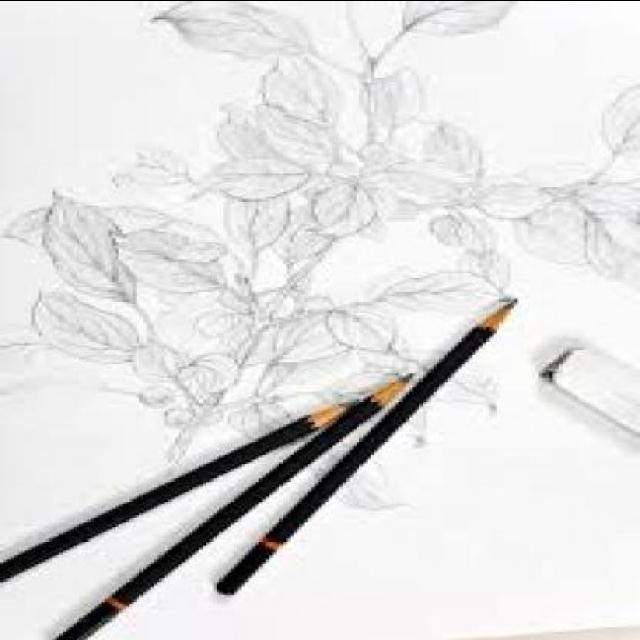pencil: (448, 290, 538, 352), (353, 366, 419, 424)
